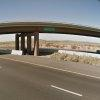Bridge: (4, 12, 96, 48)
